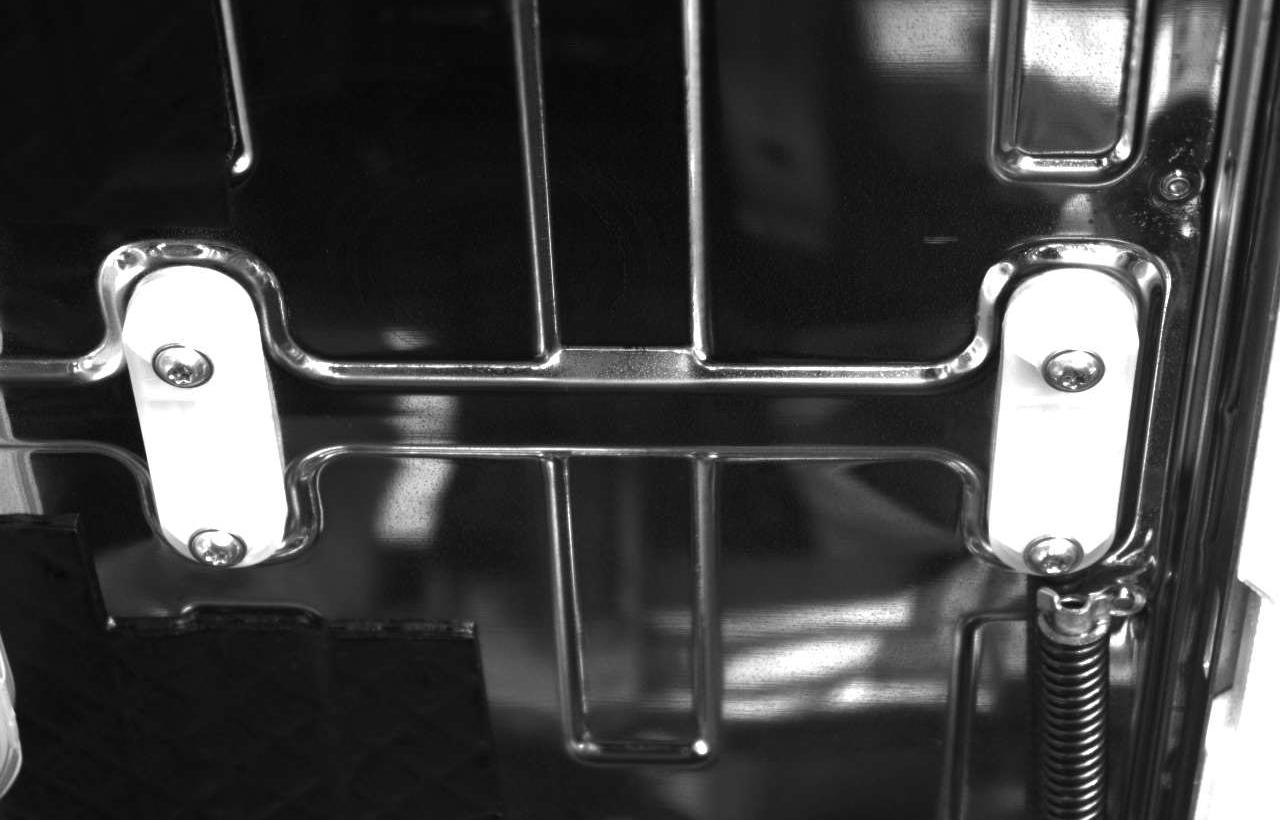vida-ok: (142, 326, 229, 403), (1034, 326, 1122, 398), (187, 506, 264, 570), (1020, 528, 1095, 587)
